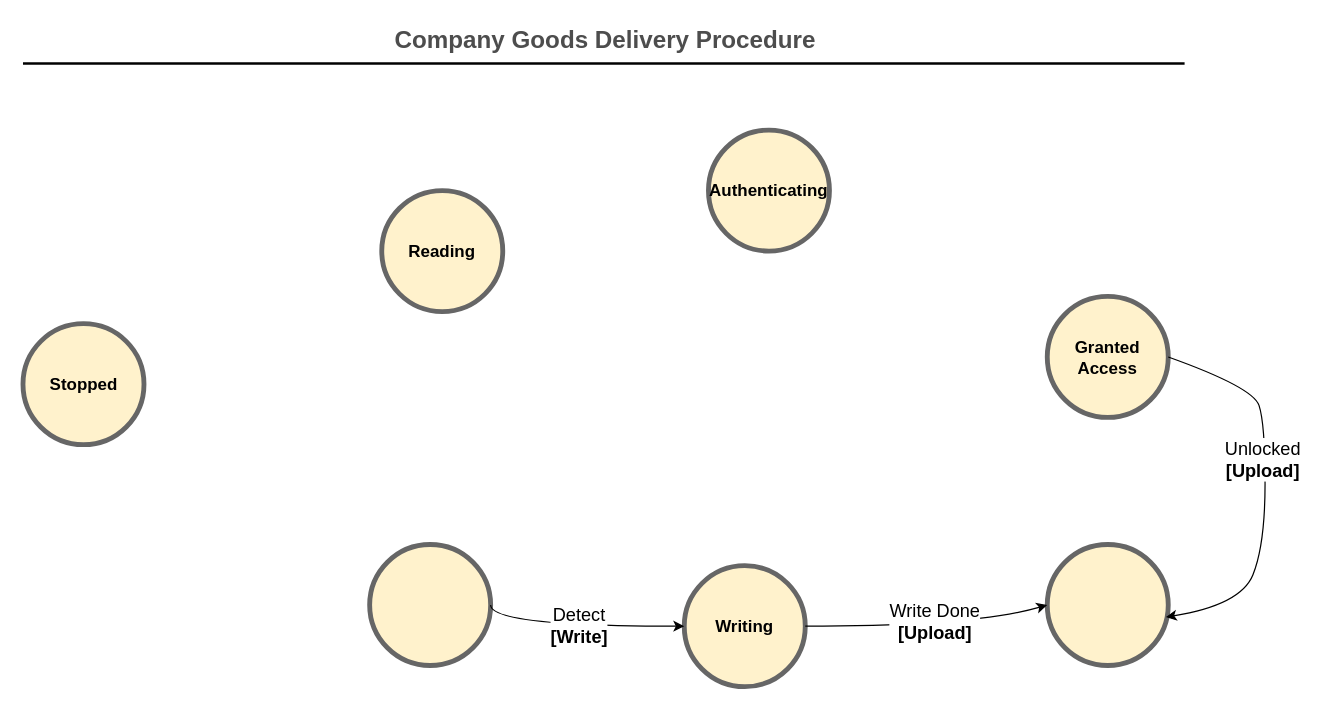
This 1321x709 diagram has some shape labels left out. Each missing label, with the centre of its shape:
"Configurating" belongs at point 429,604.
"Uploading" belongs at point 1107,604.
